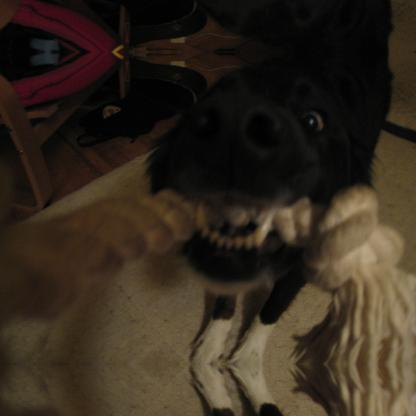Dog: (143, 52, 395, 362)
